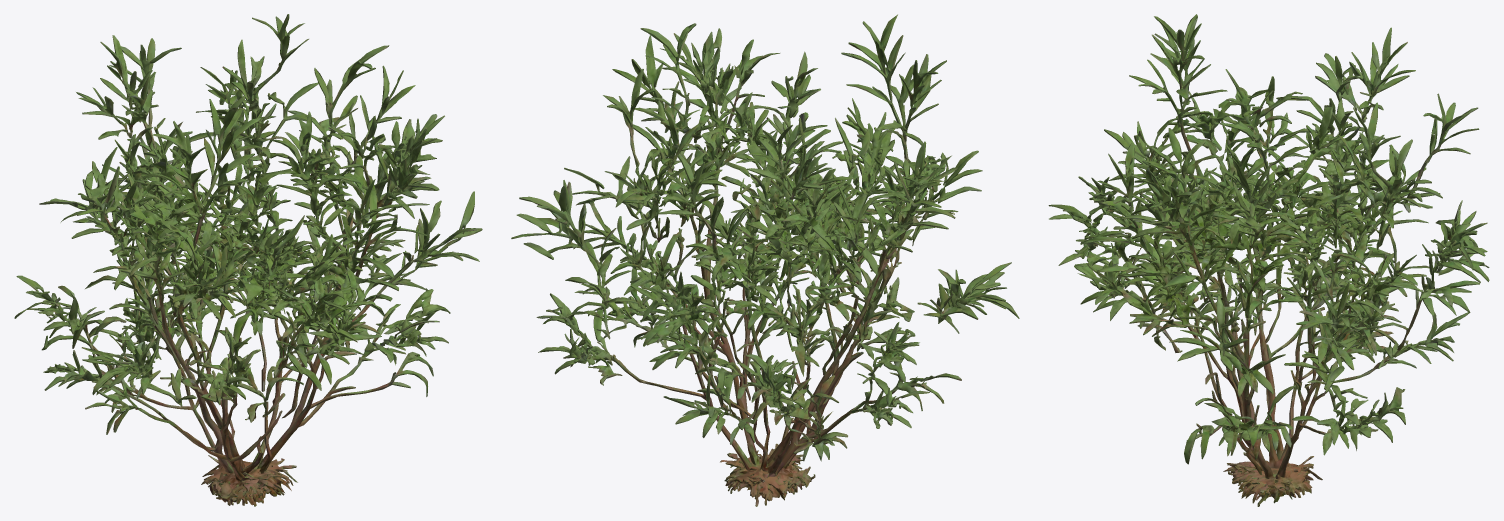
File: willow-stems-v13-lod.glb
3 views of the same model, side by side, from view 1: azimuth 30°, elevation 25°; view 2: azimuth 150°, elevation 25°; view 3: azimuth 270°, elevation 25° (orthographic).
Visible parts, largest first — view 1: geometry_0; view 2: geometry_0; view 3: geometry_0.
Part boxes in pixels (x1=…): geometry_0: x1=14, y1=14, x2=482, y2=506; geometry_0: x1=511, y1=14, x2=1019, y2=506; geometry_0: x1=1048, y1=14, x2=1489, y2=506.
Size of the model in its own units: 0.8884 by 0.8999 by 0.8227.
1 material, 1 textured.
